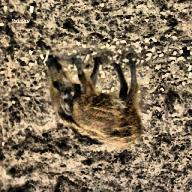boar: (44, 55, 143, 148)
